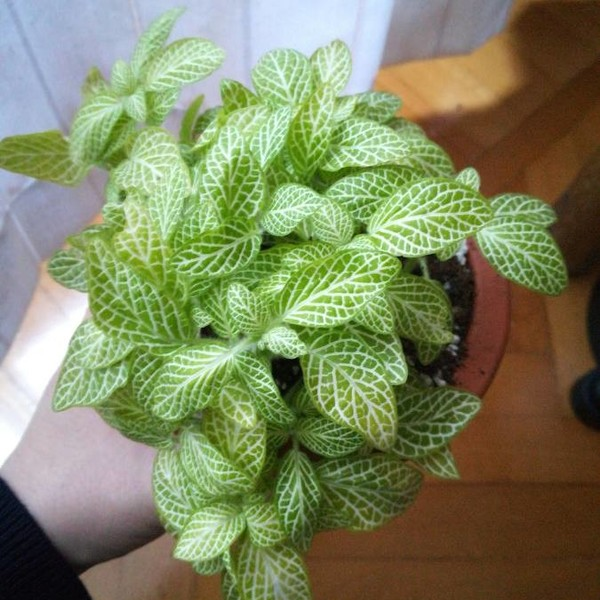obstacle: (15, 20, 555, 576)
